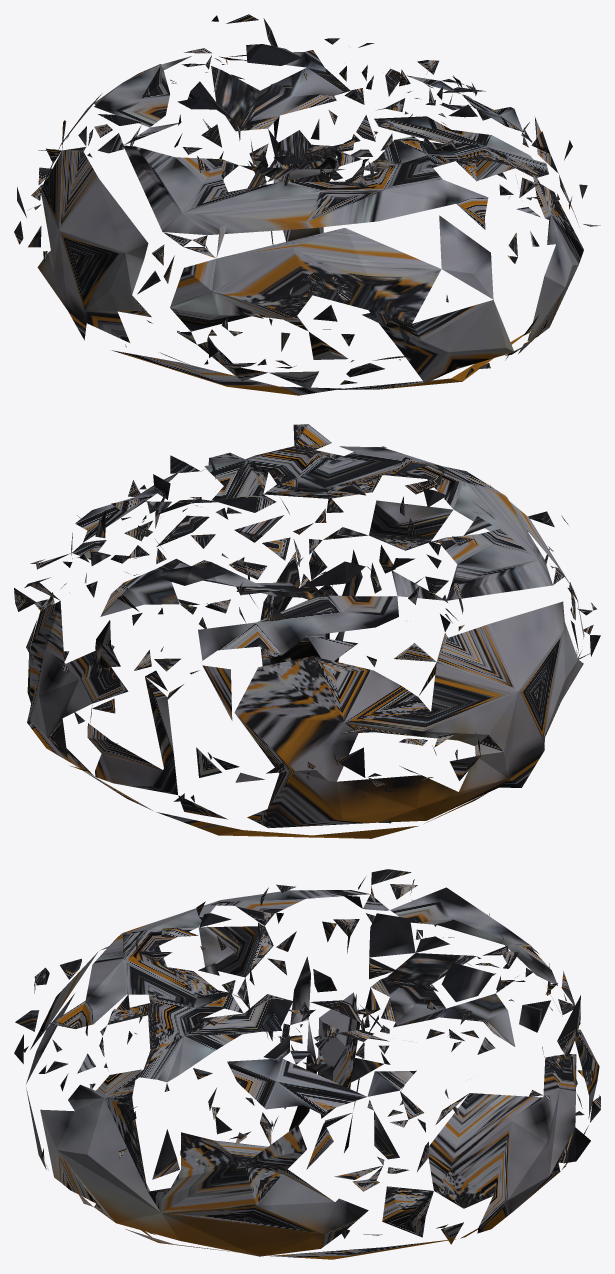
The model's file is food_prepared_donut_j01.glb.
3 views of the same model, one above another, from view 1: azimuth 30°, elevation 25°; view 2: azimuth 150°, elevation 25°; view 3: azimuth 270°, elevation 25° (orthographic). The views are drawn at different scales.
Visible parts, largest first — view 1: geometry_0; view 2: geometry_0; view 3: geometry_0.
Boxes of the visible parts, <box> form: geometry_0: <box>14,14,600,395</box>; geometry_0: <box>14,424,600,838</box>; geometry_0: <box>14,869,600,1259</box>.
Bounding box in the file's own units: 0.3905 × 0.1841 × 0.42.
1 material, 1 textured.
